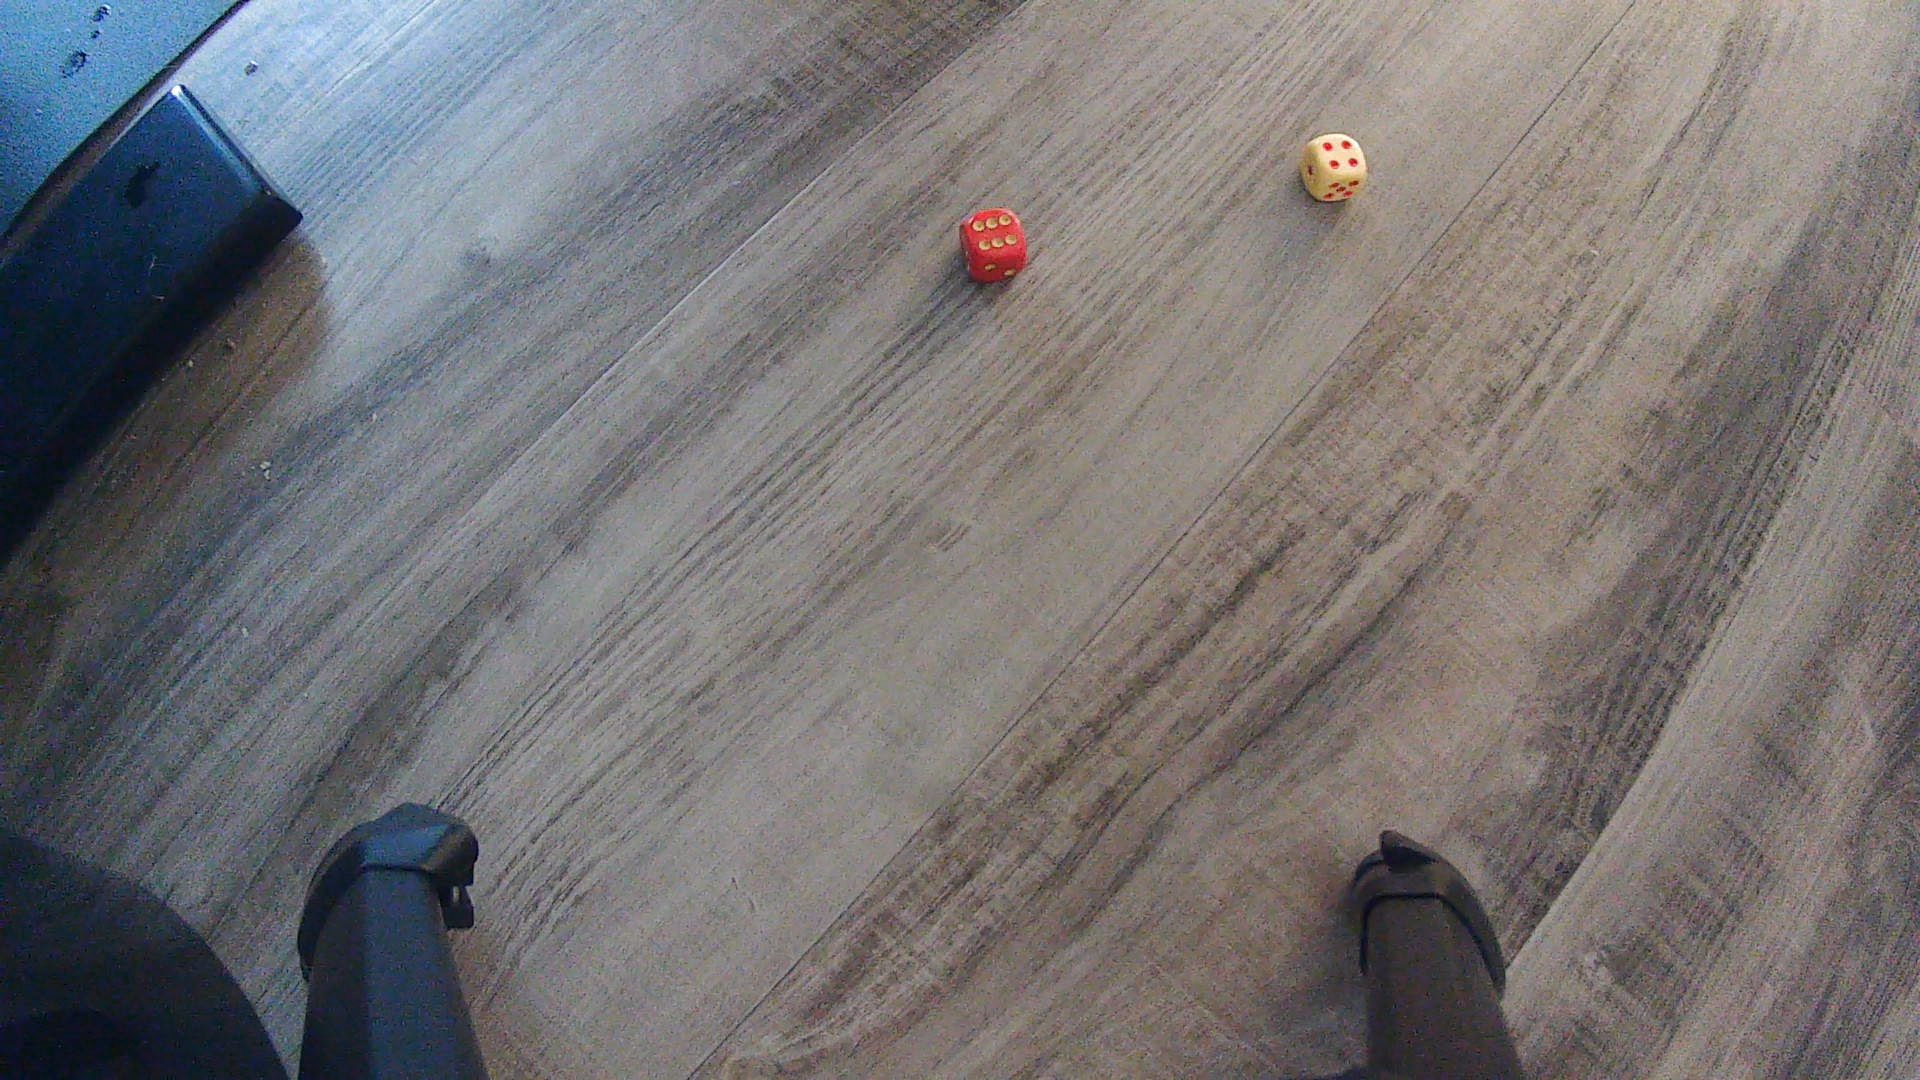die: (957, 207, 1029, 285), (1300, 132, 1369, 203)
